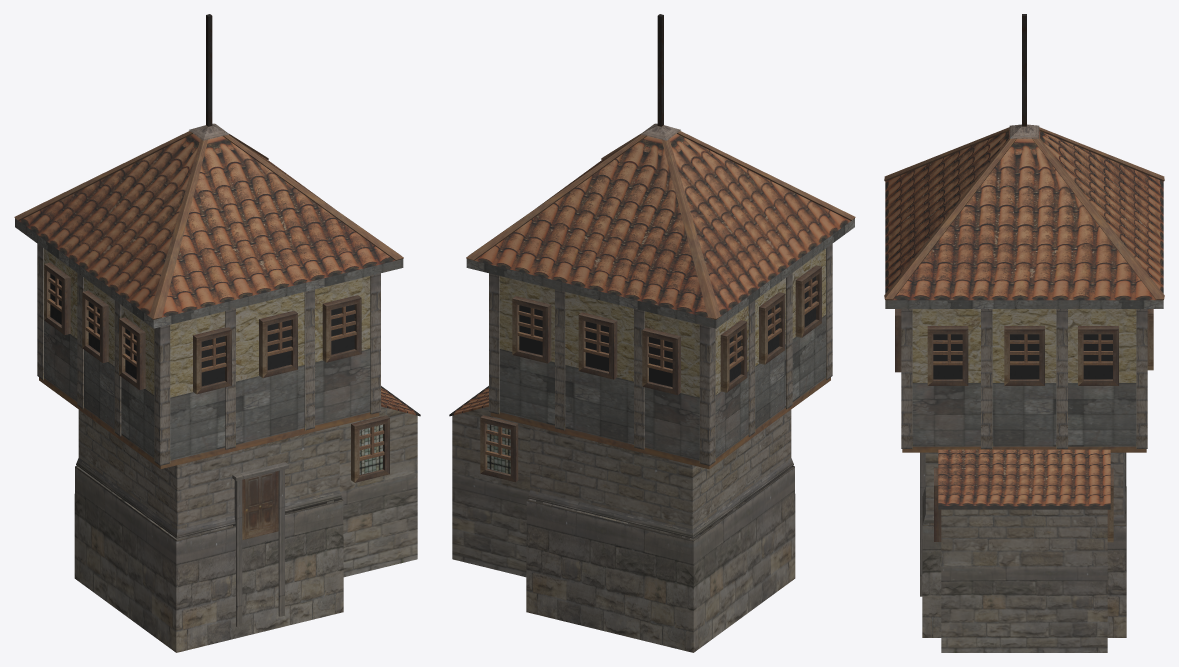
The model's file is border_guardtower.dae.
3 renders of one model, left to right at view 1: azimuth 30°, elevation 25°; view 2: azimuth 150°, elevation 25°; view 3: azimuth 270°, elevation 25°, orthographic.
Parts seen in each view (by area): view 1: GuardHouse; view 2: GuardHouse; view 3: GuardHouse.
Part boxes in pixels (bbox=[...]): GuardHouse: bbox=[14, 14, 420, 652]; GuardHouse: bbox=[449, 14, 855, 652]; GuardHouse: bbox=[884, 14, 1164, 652].
Size of the model in its own units: 16.69 by 13.73 by 31.44.
1 material, 1 textured.
